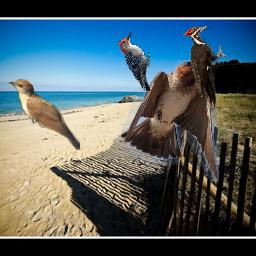Cuckoo: (8, 79, 80, 150)
Swallow: (121, 60, 219, 182)
Woodpecker: (183, 25, 227, 108), (118, 32, 150, 91)
